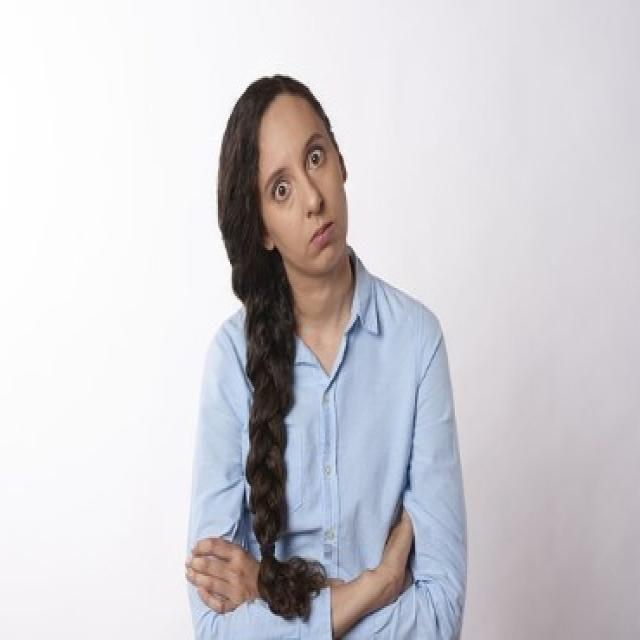adult: (184, 56, 464, 640)
